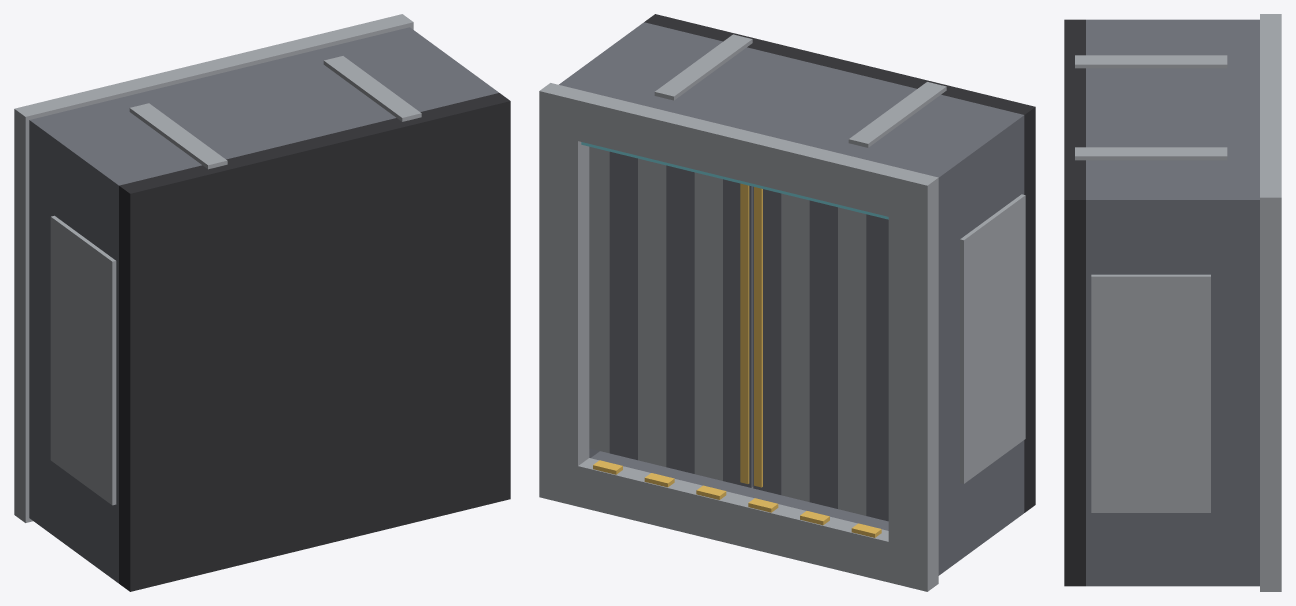
The model's file is intake_accordion_2x2x1.glb.
The picture shows the model from 3 angles, left to right: view 1: azimuth 30°, elevation 25°; view 2: azimuth 150°, elevation 25°; view 3: azimuth 270°, elevation 25°; orthographic projection. The views are drawn at different scales.
Visible parts, largest first — view 1: object 1; view 2: object 1, intake_slat_r5, intake_slat_r4, intake_slat_l2, intake_slat_l5, intake_slat_r1, intake_slat_r3, intake_slat_l3, intake_slat_l4, intake_slat_r2, intake_slat_l1, intake_slat_r0; view 3: object 1.
Part boxes in pixels (<box>): object 1: <box>14,14,510,591</box>; object 1: <box>539,14,1035,591</box>; intake_slat_r5: <box>723,179,753,487</box>; intake_slat_r4: <box>694,172,722,480</box>; intake_slat_l2: <box>838,207,866,515</box>; intake_slat_l5: <box>753,186,781,495</box>; intake_slat_r1: <box>609,151,637,460</box>; intake_slat_r3: <box>666,165,694,473</box>; intake_slat_l3: <box>809,200,837,508</box>; intake_slat_l4: <box>781,193,809,501</box>; intake_slat_r2: <box>638,158,666,466</box>; intake_slat_l1: <box>866,214,888,521</box>; intake_slat_r0: <box>589,146,609,453</box>; object 1: <box>1064,14,1281,591</box>.
Bounding box in the file's own units: 2 × 2 × 1.
